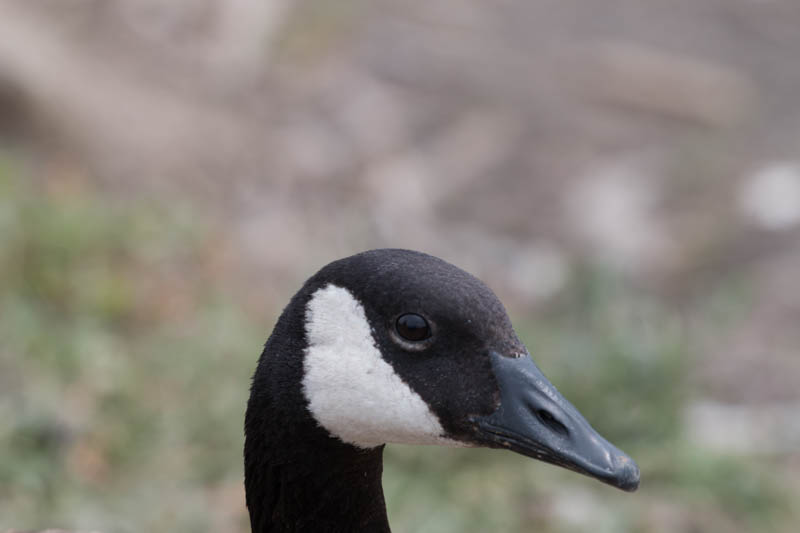goose-head: (244, 250, 640, 493)
